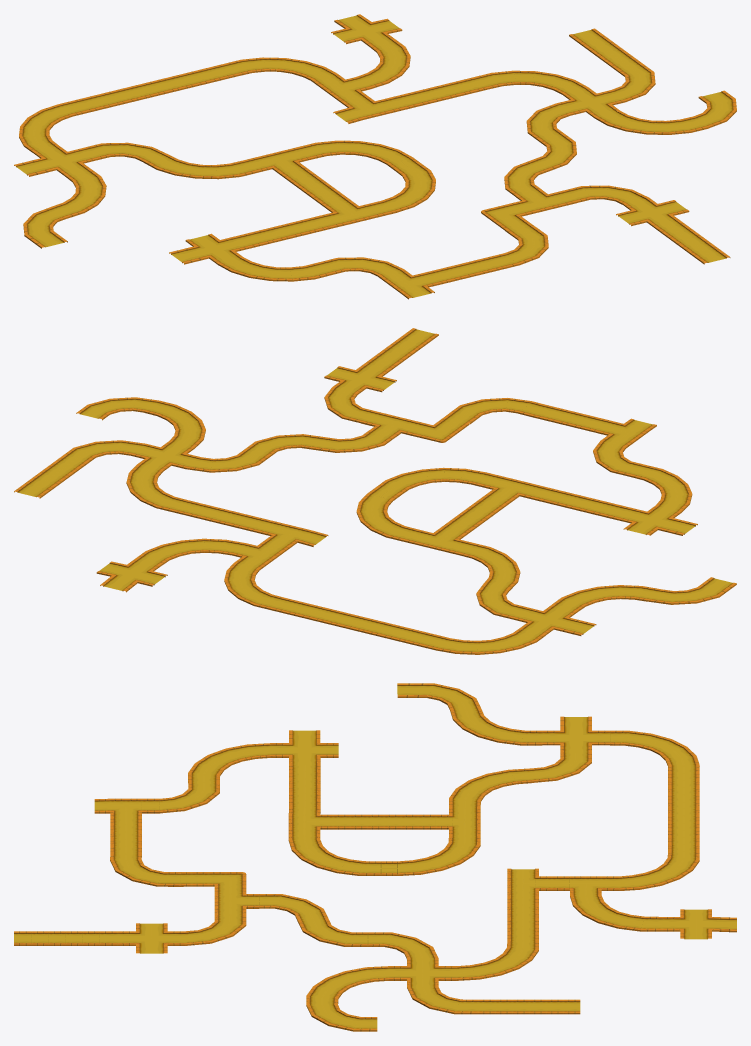
Rendered from Razigrani grad samo putevi 20. april.fbx.
3 renders of one model, top to bottom at view 1: azimuth 30°, elevation 25°; view 2: azimuth 150°, elevation 25°; view 3: azimuth 270°, elevation 25°, orthographic. The views are drawn at different scales.
Parts seen in each view (by area): view 1: Putevi; view 2: Putevi; view 3: Putevi.
Part boxes in pixels (x1=…): Putevi: x1=14, y1=14, x2=736, y2=299; Putevi: x1=14, y1=328, x2=736, y2=654; Putevi: x1=14, y1=683, x2=736, y2=1031.
Size of the model in its own units: 2726 by 8.37 by 2402.
Materials: 1 (1 with a texture image).
